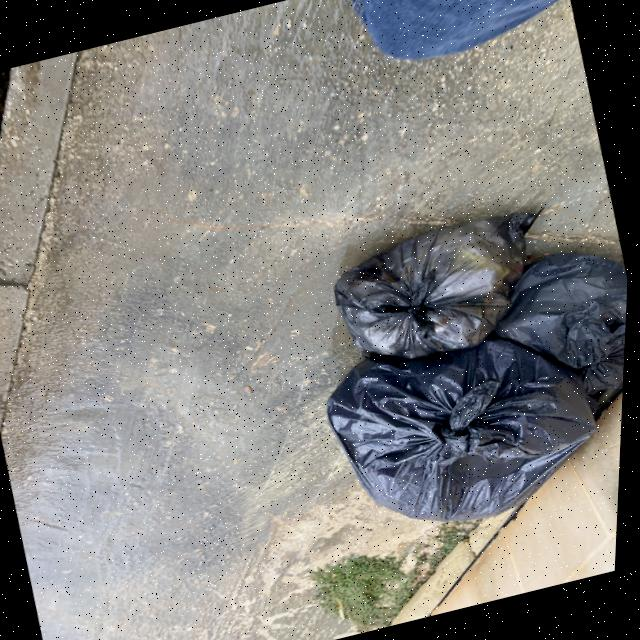Mixed Waste -Black Bag-: (314, 305, 621, 551), (321, 203, 571, 377), (481, 237, 633, 421)
